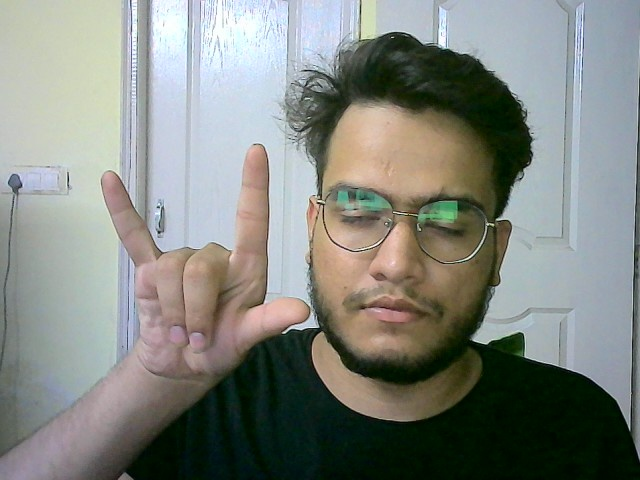I Love You: (95, 140, 315, 387)
